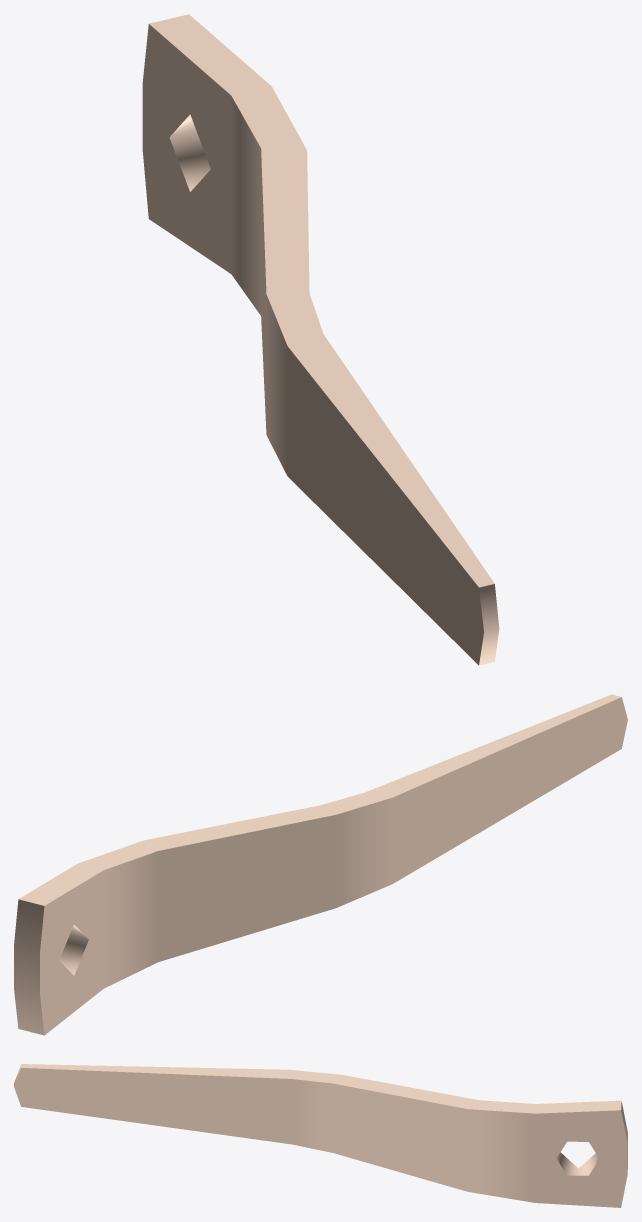
Rendered from Loquet porte - plaque.obj.
3 views of the same model, one above another, from view 1: azimuth 30°, elevation 25°; view 2: azimuth 150°, elevation 25°; view 3: azimuth 270°, elevation 25° (orthographic). The views are drawn at different scales.
Visible parts, largest first — view 1: Face_15, Face_7, Face_2, Face_10, Face_8, Face_11, Face_12, Face_9; view 2: Face_9, Face_7, Face_15, Face_2, Face_10, Face_8, Face_14, Face_11; view 3: Face_6, Face_4, Face_1, Face_3, Face_15, Face_5, Face_11.
Boxes of the visible parts, x1,y1,x2,y2 form: Face_15: [149, 14, 494, 587]; Face_7: [287, 346, 483, 665]; Face_2: [142, 24, 231, 273]; Face_10: [231, 96, 260, 315]; Face_8: [266, 294, 287, 475]; Face_11: [169, 114, 210, 191]; Face_12: [479, 584, 499, 665]; Face_9: [261, 150, 266, 428]; Face_9: [158, 815, 335, 962]; Face_7: [392, 697, 627, 883]; Face_15: [19, 694, 621, 905]; Face_2: [40, 870, 103, 1035]; Face_10: [103, 851, 157, 988]; Face_8: [336, 797, 392, 907]; Face_14: [14, 899, 44, 1035]; Face_11: [59, 924, 88, 975]; Face_6: [14, 1068, 292, 1144]; Face_4: [333, 1083, 467, 1191]; Face_1: [535, 1110, 627, 1207]; Face_3: [467, 1109, 535, 1202]; Face_15: [21, 1064, 621, 1113]; Face_5: [292, 1079, 333, 1152]; Face_11: [556, 1152, 599, 1175].
Bounding box in the file's own units: 0.0125 × 0.0075 × 0.0427.
